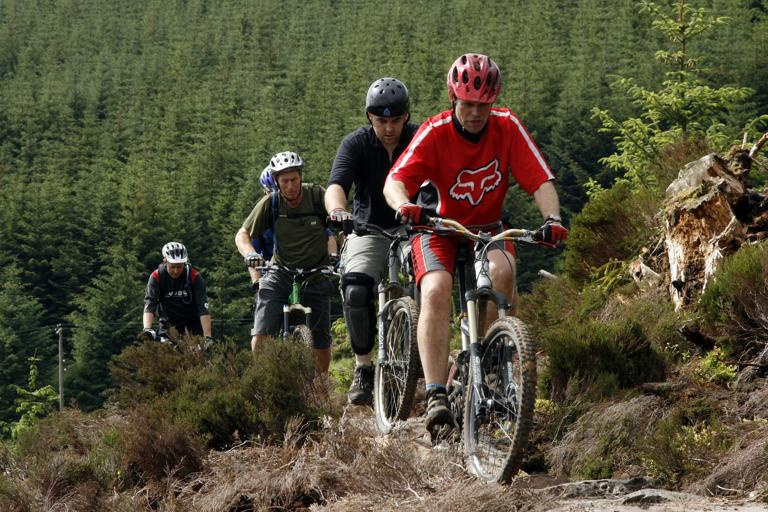non-vehicle: (395, 209, 568, 487), (323, 214, 415, 433), (253, 256, 341, 384), (139, 329, 214, 360)
